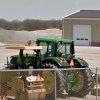Tractor: (19, 31, 97, 89)
